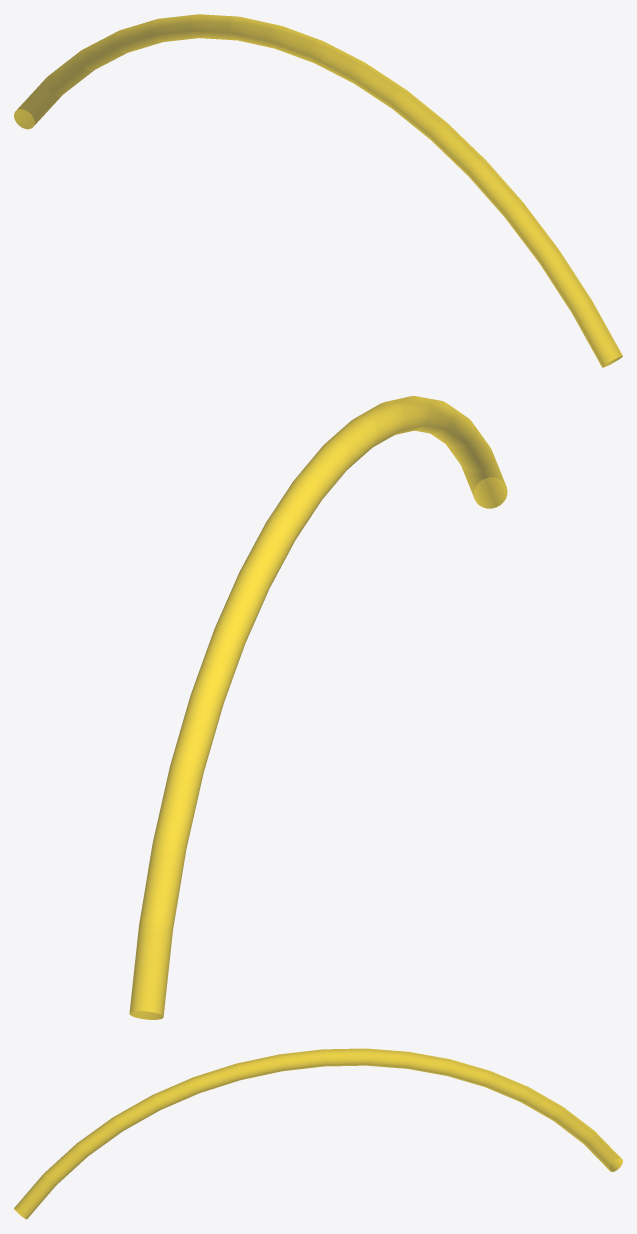
Rendered from Event_17758602_track_111.fbx.
3 views of the same model, one above another, from view 1: azimuth 30°, elevation 25°; view 2: azimuth 150°, elevation 25°; view 3: azimuth 270°, elevation 25° (orthographic). The views are drawn at different scales.
Parts seen in each view (by area): view 1: Model; view 2: Model; view 3: Model.
Part boxes in pixels (x1,y1,x2,y2): Model: [14, 14, 622, 367]; Model: [129, 396, 507, 1019]; Model: [14, 1048, 622, 1219].
Bounding box in the file's own units: 0.3767 × 0.3902 × 1.42.
